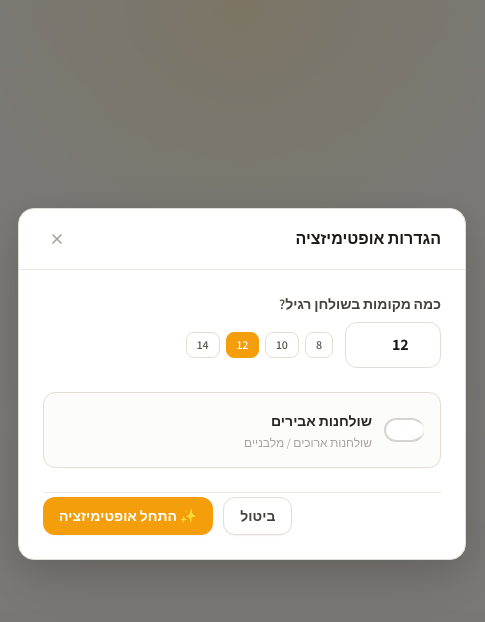
Scenario: OptimizeModal › shows error for invalid capacity (0)
Replace the text in the number field with test id "optimize-capacity-input" with "0". click: (393, 345)
box: [345,322,441,368]
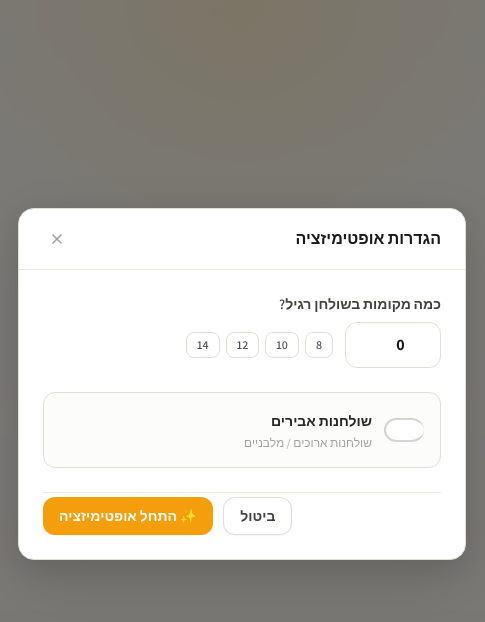
Click the button with test id "optimize-confirm". click: (128, 516)
box: [43,497,213,535]
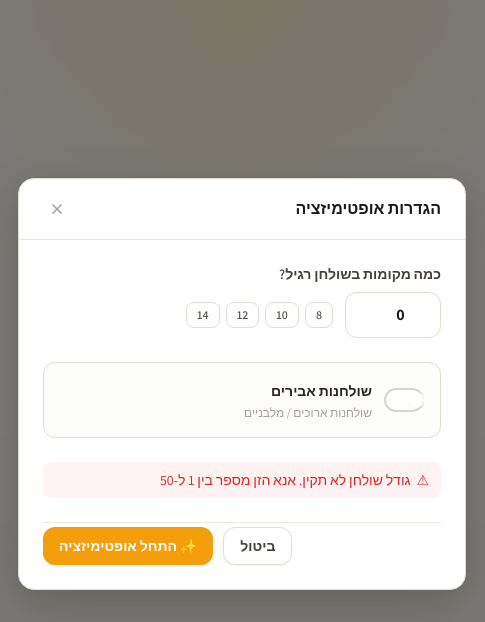
Result: the text "⚠ גודל שולחן לא תקין. אנא הזן מספר בין 1 ל-50" is shown at [43,462,441,498]
